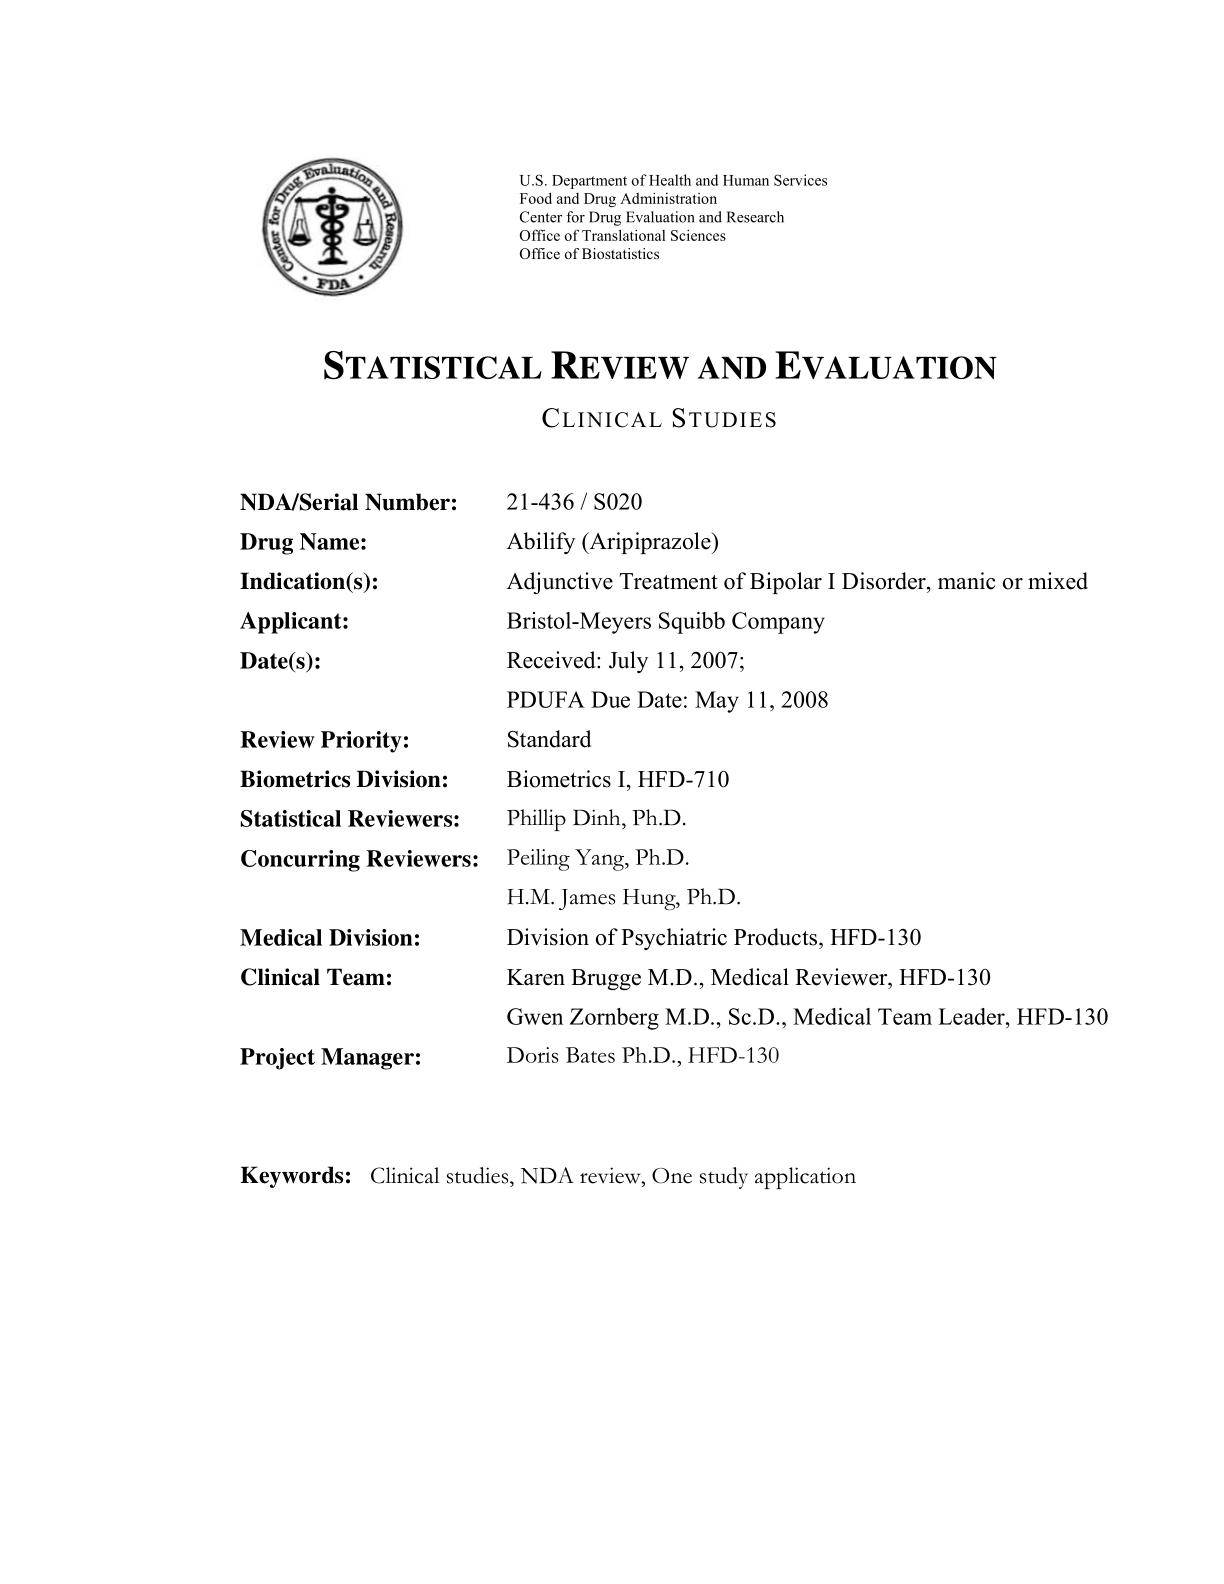nolines: (233, 482, 1111, 1072)
